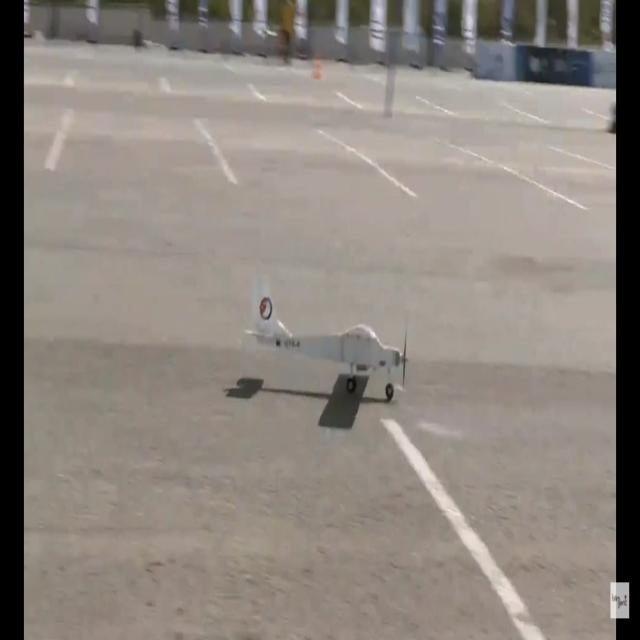iha: (236, 272, 404, 406)
